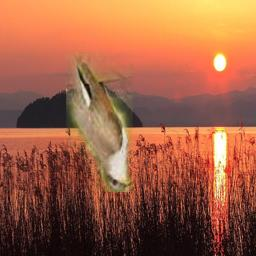Cuckoo: (66, 52, 133, 192)
